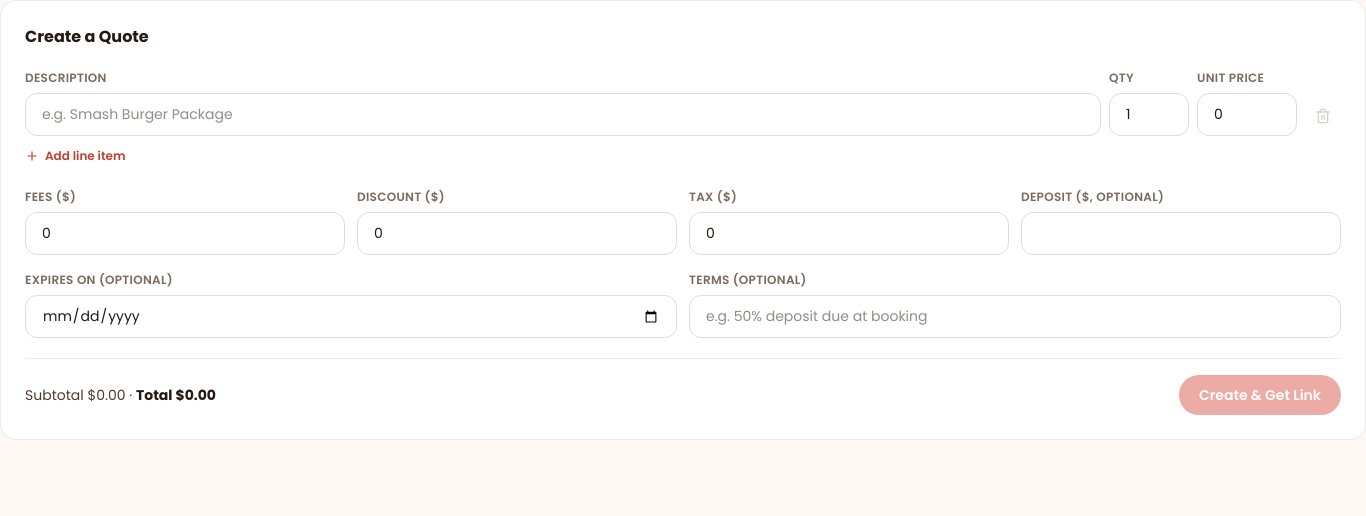
Test: QuoteBuilder › creates a quote, filtering out blank rows, and shows the customer link
Step 1. Type "Burgers" into the field named "Description" → (563, 114), box [25,93,1101,136]
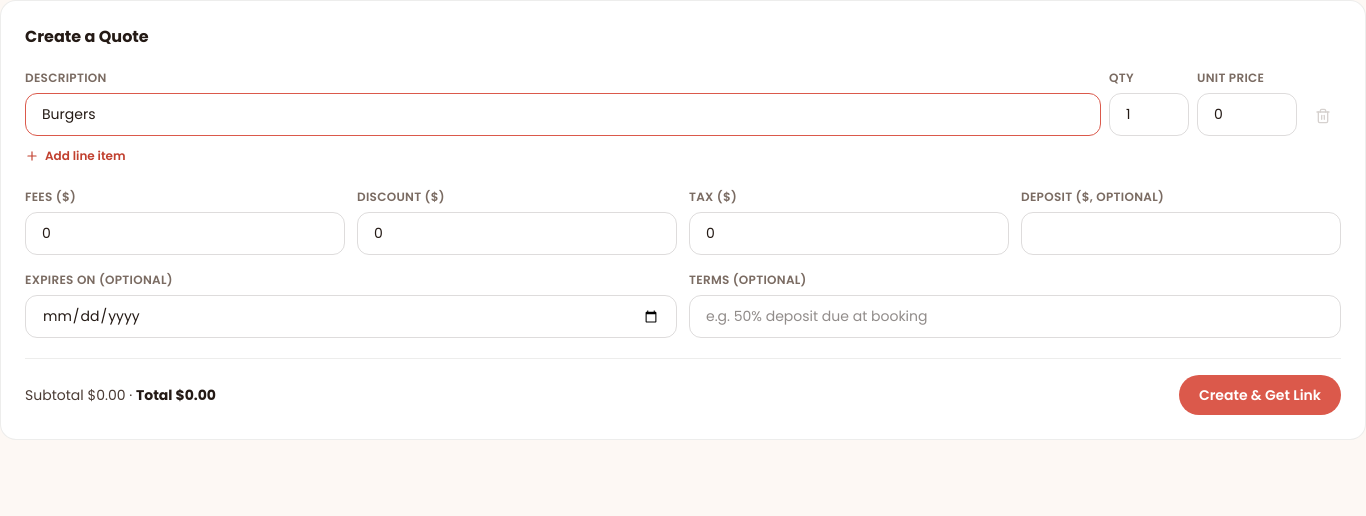
Step 2. Click the button "Add line item" → (75, 156), box [25,148,126,164]
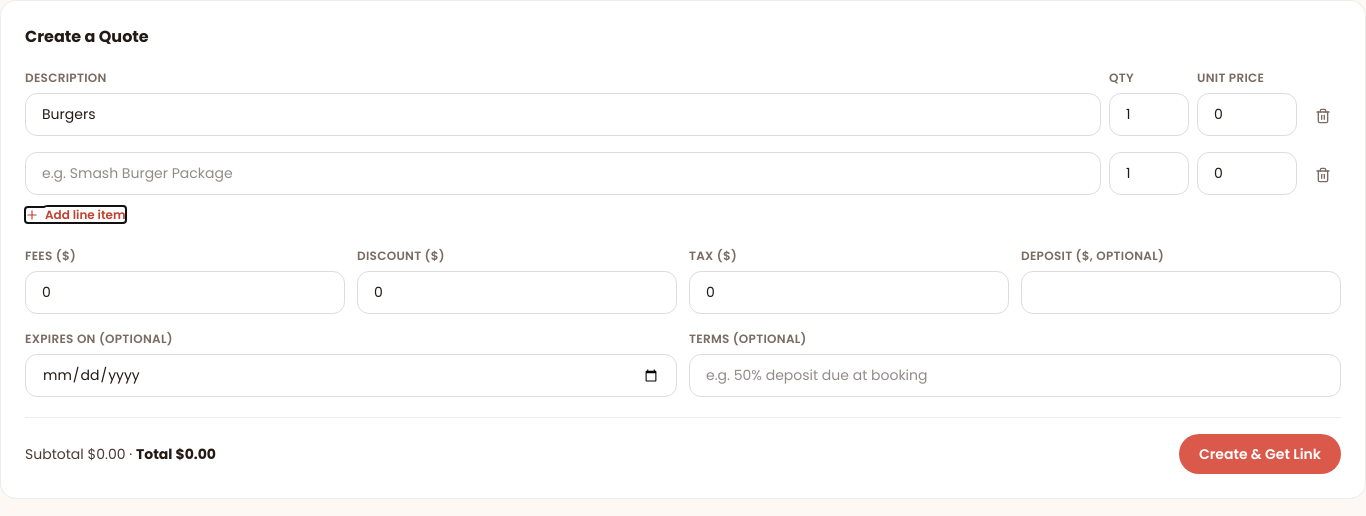
Step 3. Click the button "Create & Get Link" → (1260, 454), box [1179,434,1341,474]
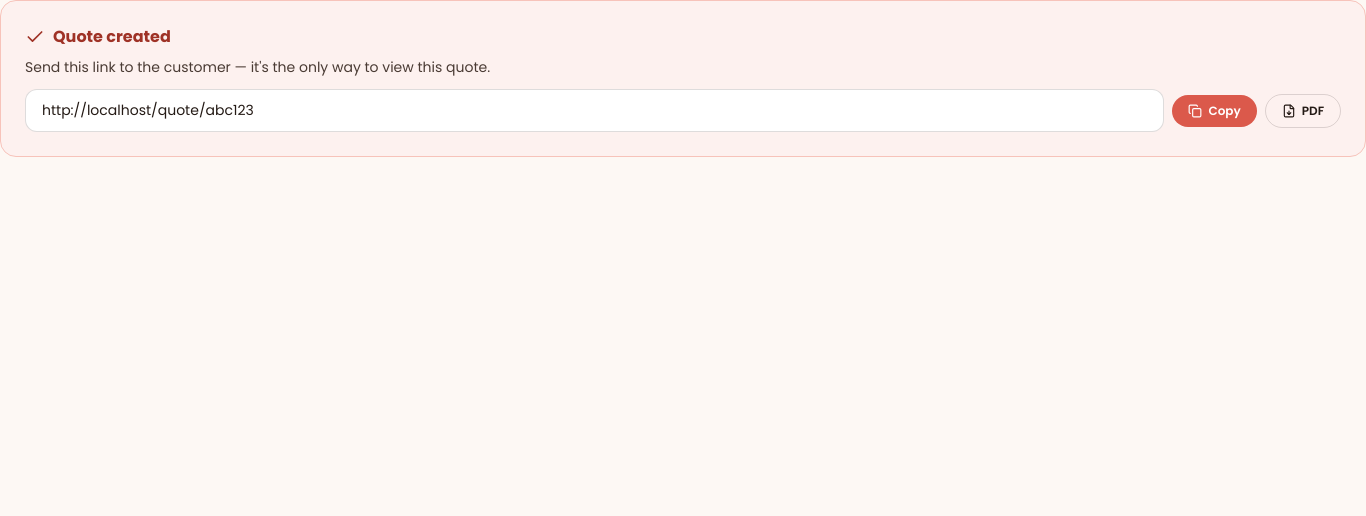
Check: the heading "Quote created" is shown, box [53,25,171,49]
Check: the field showing "/quote/abc123" is shown, box [25,89,1164,132]
